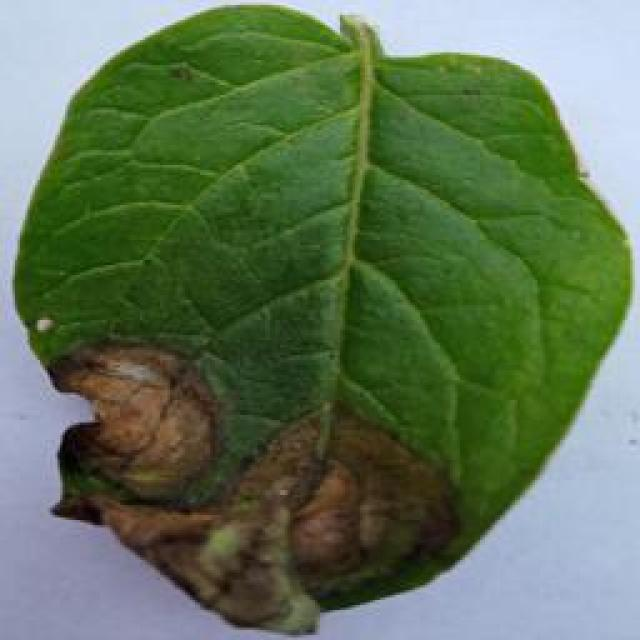Potato_Late_Blight: (14, 3, 624, 632)
